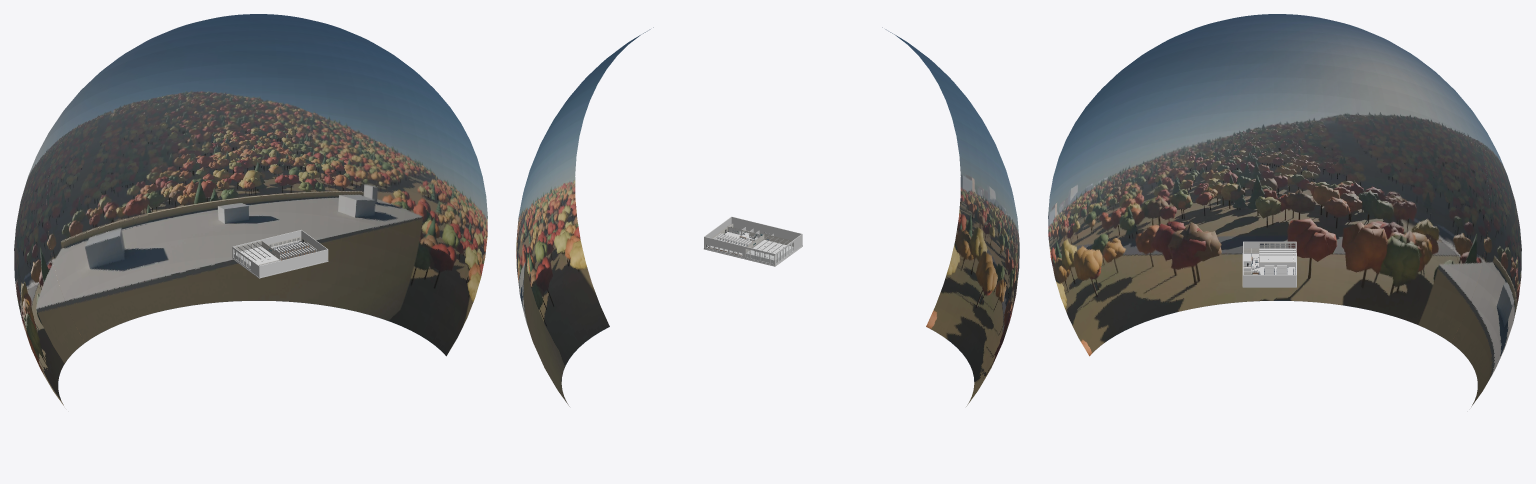
Rendered from bibliotheque.glb.
3 views of the same model, side by side, from view 1: azimuth 30°, elevation 25°; view 2: azimuth 150°, elevation 25°; view 3: azimuth 270°, elevation 25° (orthographic). The views are drawn at different scales.
Parts seen in each view (by area): view 1: S_exterieur_a, S_exterieur_b, COL_mur_sud, TRIGGER_silence; view 2: S_exterieur_a, S_exterieur_b, COL_mur_sud, TRIGGER_silence; view 3: S_exterieur_b, S_exterieur_a, TRIGGER_silence, COL_mur_est.
Boxes of the visible parts, <box> form: S_exterieur_a: <box>46,14,487,356</box>; S_exterieur_b: <box>14,69,103,405</box>; COL_mur_sud: <box>259,249,328,277</box>; TRIGGER_silence: <box>233,246,279,269</box>; S_exterieur_a: <box>516,27,653,406</box>; S_exterieur_b: <box>882,27,1019,406</box>; COL_mur_sud: <box>731,216,801,240</box>; TRIGGER_silence: <box>746,240,793,263</box>; S_exterieur_b: <box>1048,14,1489,356</box>; S_exterieur_a: <box>1432,69,1521,406</box>; TRIGGER_silence: <box>1259,248,1295,267</box>; COL_mur_est: <box>1243,275,1296,286</box>.
Size of the model in its own units: 280 by 212 by 271.
46 materials, 19 textured.
